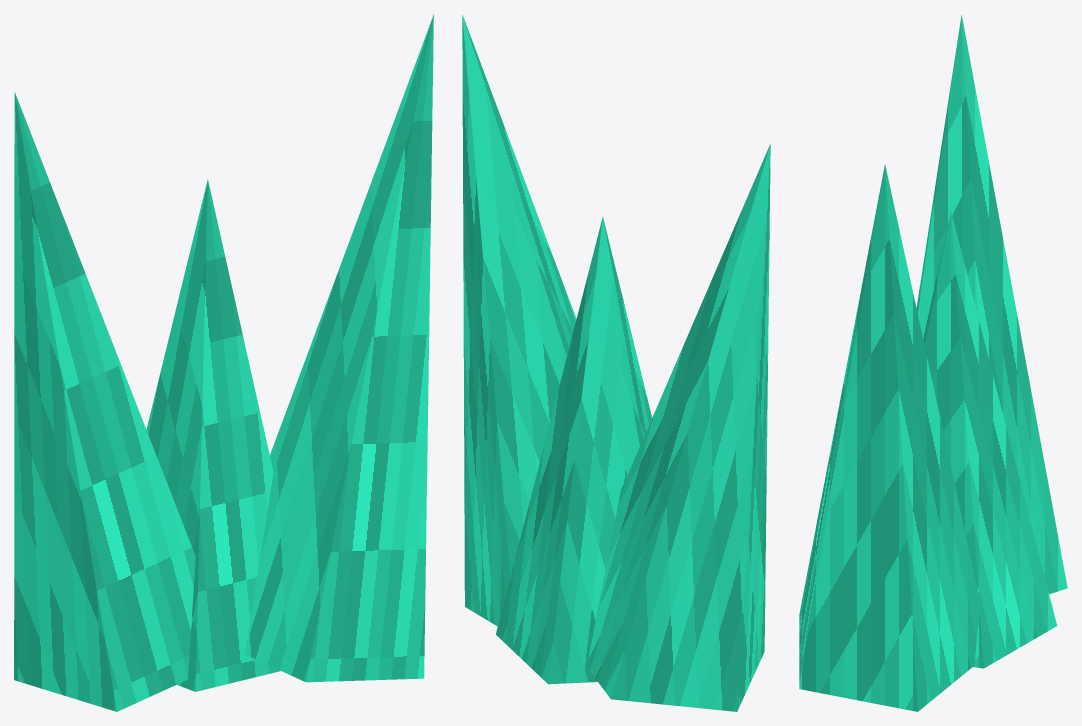
The model's file is crystal_12.glb.
The picture shows the model from 3 angles, left to right: view 1: azimuth 30°, elevation 25°; view 2: azimuth 150°, elevation 25°; view 3: azimuth 270°, elevation 25°; orthographic projection. The views are drawn at different scales.
Visible parts, largest first — view 1: Jade.002, Jade, Jade.001; view 2: Jade, Jade.002, Jade.001; view 3: Jade.002, Jade.001, Jade.
Part boxes in pixels (x1,y1,x2,y2): Jade.002: (245,14,433,682); Jade: (14,92,195,711); Jade.001: (146,179,280,691); Jade: (586,143,770,711); Jade.002: (462,14,576,626); Jade.001: (496,216,651,684); Jade.002: (799,164,981,711); Jade.001: (923,212,1056,668); Jade: (916,15,1067,594).
Bounding box in the file's own units: 0.8068 × 1.28 × 0.5568.
1 material, 1 textured.
